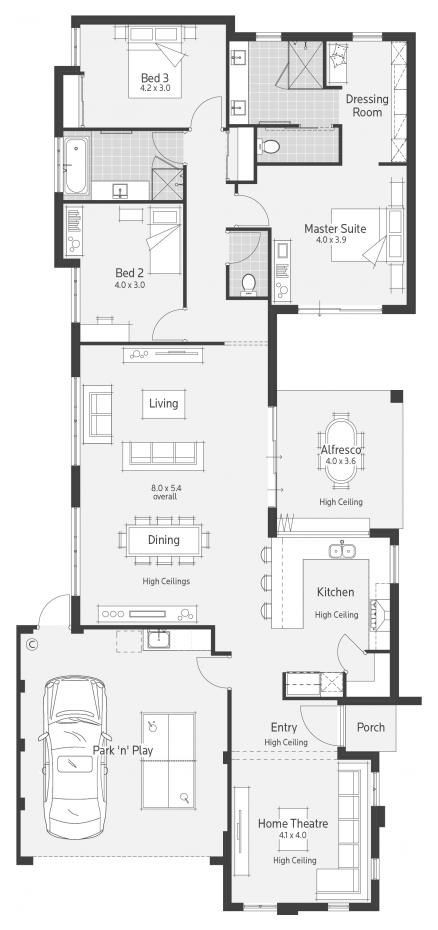door: (300, 706, 343, 747), (185, 92, 222, 131), (332, 635, 366, 677), (151, 304, 191, 339), (196, 655, 231, 695), (234, 191, 273, 226)
room: (87, 349, 278, 625), (236, 695, 369, 894), (267, 165, 409, 309), (278, 386, 407, 532), (250, 39, 403, 161), (278, 543, 394, 702), (71, 203, 201, 340), (79, 26, 219, 127), (73, 132, 198, 202)
wall: (406, 40, 421, 312), (14, 622, 26, 863), (223, 691, 234, 911), (73, 12, 239, 24), (183, 169, 196, 306), (85, 338, 224, 349), (82, 624, 215, 634), (269, 301, 280, 408), (339, 693, 423, 707), (52, 62, 67, 135), (70, 196, 185, 205), (222, 18, 231, 130), (286, 29, 352, 43), (280, 901, 337, 916), (53, 194, 65, 263), (338, 744, 381, 763), (249, 125, 262, 183), (230, 122, 302, 132), (390, 584, 396, 699), (69, 463, 82, 511), (259, 159, 343, 166), (389, 24, 415, 44), (268, 229, 275, 299), (70, 323, 79, 374), (386, 300, 419, 313), (228, 225, 275, 233), (371, 527, 399, 540), (356, 903, 384, 916), (267, 506, 278, 538), (232, 29, 254, 45), (225, 293, 267, 301), (209, 628, 221, 655), (373, 814, 381, 853), (73, 597, 81, 635), (224, 265, 232, 298), (382, 158, 411, 164)
window: (299, 305, 385, 320), (281, 528, 373, 541), (70, 380, 83, 459), (67, 511, 79, 592), (70, 265, 86, 320), (51, 140, 66, 194), (367, 770, 383, 807), (69, 27, 83, 64), (391, 541, 402, 586), (356, 29, 387, 44), (260, 26, 282, 45), (242, 903, 280, 914), (371, 856, 379, 879)
